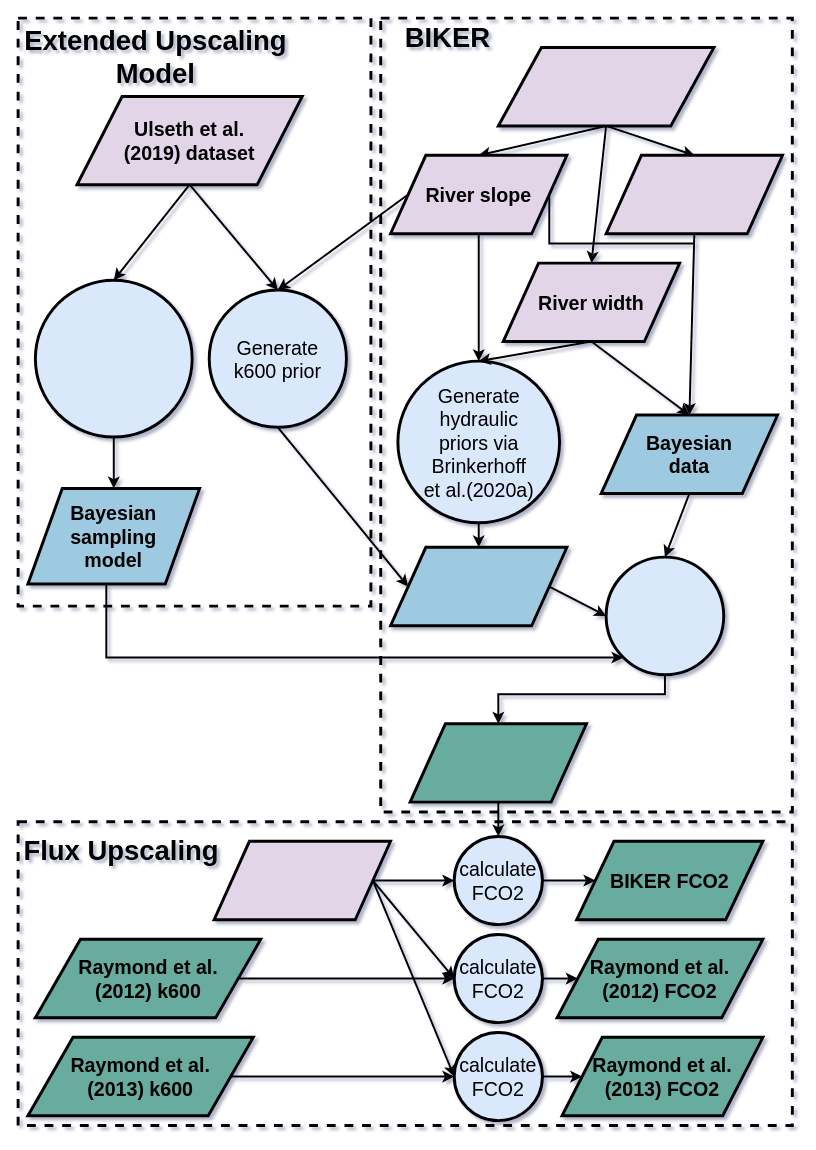
This 816x1150 diagram has some shape labels left out. The shapes that lost their labels are listed below. From the top down, each one's centre as x and y in pixels, then its label:
At (x=605, y=86): "Frasson et al. (2019) SWOT data".
At (x=694, y=194): "Change in Channel Area".
At (x=113, y=358): "Identify RS-able upscaling model for k600".
At (x=478, y=586): "Bayesian priors".
At (x=664, y=615): "Bayesian Inference".
At (x=498, y=762): "Probability distribution of k600".
At (x=302, y=880): "Beaulieu et al. (2012) CO2 data".
